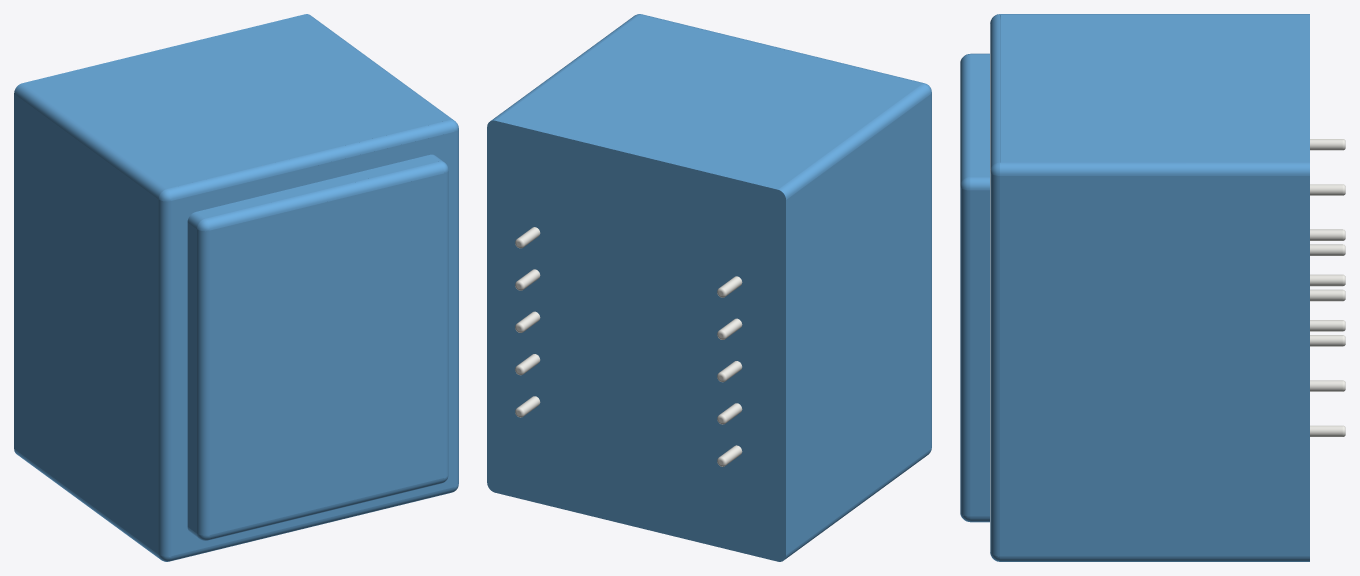
Rendered from Transformer_CHK_EI42-5VA_1xSec.glb.
The picture shows the model from 3 angles, left to right: view 1: azimuth 30°, elevation 25°; view 2: azimuth 150°, elevation 25°; view 3: azimuth 270°, elevation 25°; orthographic projection. The views are drawn at different scales.
Visible parts, largest first — view 1: Shape_IndexedFaceSet.043, Shape_IndexedFaceSet.069, Shape_IndexedFaceSet.066, Shape_IndexedFaceSet.047, Shape_IndexedFaceSet.056, Shape_IndexedFaceSet.050, Shape_IndexedFaceSet.054, Shape_IndexedFaceSet.049, Shape_IndexedFaceSet.057, Shape_IndexedFaceSet.073, Shape_IndexedFaceSet.059, Shape_IndexedFaceSet.053 (+4 smaller); view 2: Shape_IndexedFaceSet.072, Shape_IndexedFaceSet.069, Shape_IndexedFaceSet.066, Shape_IndexedFaceSet.073, Shape_IndexedFaceSet.056, Shape_IndexedFaceSet.074, Shape_IndexedFaceSet.070; view 3: Shape_IndexedFaceSet.063, Shape_IndexedFaceSet.066, Shape_IndexedFaceSet.052, Shape_IndexedFaceSet.070, Shape_IndexedFaceSet.053, Shape_IndexedFaceSet.045, Shape_IndexedFaceSet.059, Shape_IndexedFaceSet.071, Shape_IndexedFaceSet.054, Shape_IndexedFaceSet.049.
Part boxes in pixels (x1=…): Shape_IndexedFaceSet.043: x1=209, y1=173, x2=443, y2=534; Shape_IndexedFaceSet.069: x1=14, y1=94, x2=158, y2=554; Shape_IndexedFaceSet.066: x1=22, y1=14, x2=448, y2=188; Shape_IndexedFaceSet.047: x1=171, y1=132, x2=454, y2=555; Shape_IndexedFaceSet.056: x1=158, y1=200, x2=171, y2=556; Shape_IndexedFaceSet.050: x1=197, y1=229, x2=209, y2=535; Shape_IndexedFaceSet.054: x1=167, y1=120, x2=454, y2=200; Shape_IndexedFaceSet.049: x1=205, y1=161, x2=443, y2=230; Shape_IndexedFaceSet.057: x1=187, y1=223, x2=196, y2=533; Shape_IndexedFaceSet.073: x1=14, y1=83, x2=166, y2=198; Shape_IndexedFaceSet.059: x1=196, y1=155, x2=438, y2=218; Shape_IndexedFaceSet.053: x1=454, y1=129, x2=458, y2=486; Shape_IndexedFaceSet.072: x1=487, y1=120, x2=785, y2=561; Shape_IndexedFaceSet.069: x1=786, y1=94, x2=930, y2=554; Shape_IndexedFaceSet.066: x1=495, y1=15, x2=921, y2=189; Shape_IndexedFaceSet.073: x1=778, y1=84, x2=930, y2=199; Shape_IndexedFaceSet.056: x1=930, y1=93, x2=931, y2=448; Shape_IndexedFaceSet.074: x1=785, y1=449, x2=930, y2=559; Shape_IndexedFaceSet.070: x1=491, y1=14, x2=639, y2=120; Shape_IndexedFaceSet.063: x1=1000, y1=176, x2=1309, y2=556; Shape_IndexedFaceSet.066: x1=1000, y1=15, x2=1309, y2=162; Shape_IndexedFaceSet.052: x1=970, y1=190, x2=989, y2=516; Shape_IndexedFaceSet.070: x1=1000, y1=162, x2=1309, y2=175; Shape_IndexedFaceSet.053: x1=990, y1=173, x2=999, y2=556; Shape_IndexedFaceSet.045: x1=960, y1=187, x2=970, y2=516; Shape_IndexedFaceSet.059: x1=970, y1=54, x2=989, y2=177; Shape_IndexedFaceSet.071: x1=1000, y1=556, x2=1309, y2=561; Shape_IndexedFaceSet.054: x1=990, y1=15, x2=999, y2=168; Shape_IndexedFaceSet.049: x1=960, y1=55, x2=970, y2=183.
Bounding box in the file's own units: 14.57 × 17.32 × 15.2.
